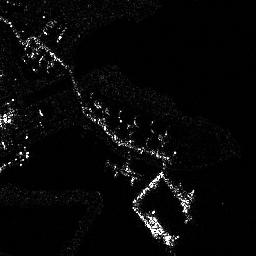ship: (143, 212, 175, 247)
